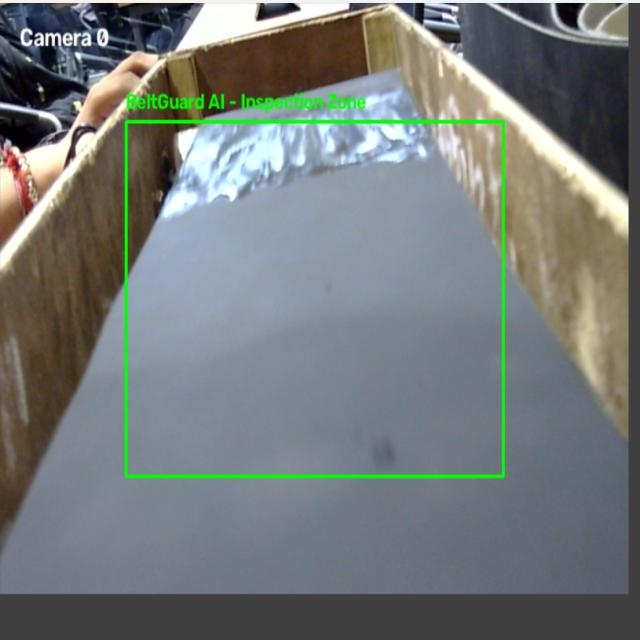crack: (349, 419, 451, 563)
scratch: (298, 276, 365, 310)
